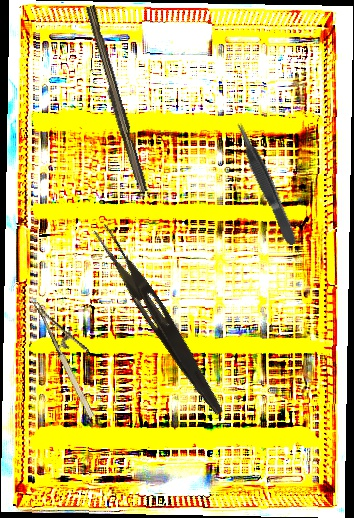Dressing Forceps: (86, 223, 234, 418)
Needle Holder: (33, 290, 115, 421)
Scalpel Handle: (80, 5, 151, 194)
Tissue Forceps: (232, 119, 299, 249)
